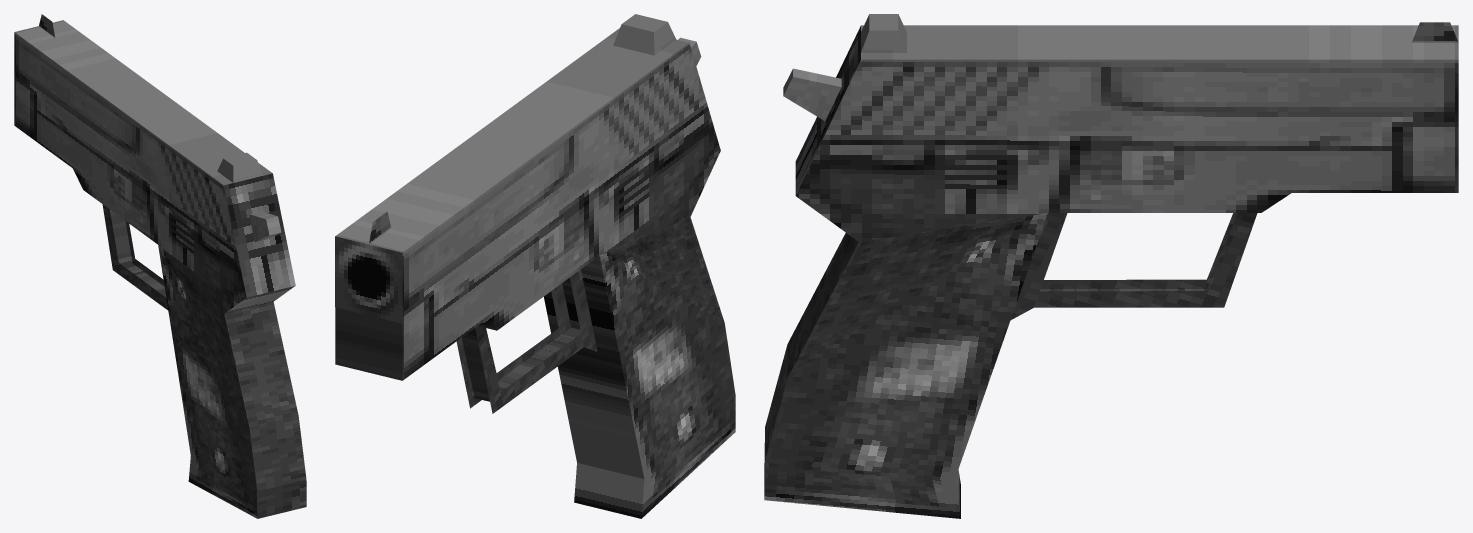
The model's file is recovered_gun_m11_p228.glb.
The picture shows the model from 3 angles, left to right: view 1: azimuth 30°, elevation 25°; view 2: azimuth 150°, elevation 25°; view 3: azimuth 270°, elevation 25°; orthographic projection. The views are drawn at different scales.
Visible parts, largest first — view 1: Gun_8ba7556a2a4e; view 2: Gun_8ba7556a2a4e, Gun_379f7b5fa02f; view 3: Gun_8ba7556a2a4e.
Part boxes in pixels (box(x1,y1,x2,y2)): Gun_8ba7556a2a4e: box(14, 14, 306, 518); Gun_8ba7556a2a4e: box(335, 14, 735, 518); Gun_379f7b5fa02f: box(335, 236, 402, 323); Gun_8ba7556a2a4e: box(764, 14, 1458, 518).
Size of the model in its own units: 0.0285 by 0.1862 by 0.2442.
2 materials, 2 textured.
